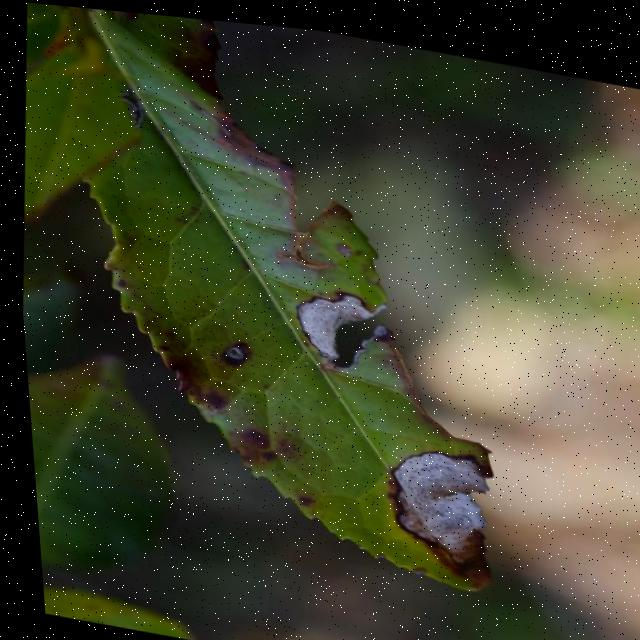Tea cloud leaf blight: (359, 428, 489, 563), (272, 268, 397, 378)
